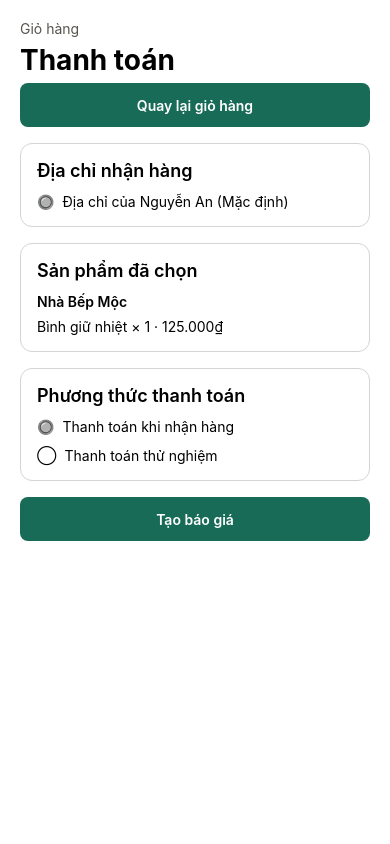
Test: B08 shows per-line server issues and does not infer quote totals
What coordinates should you click on to do the following:
click the button "Tạo báo giá"
I would click on:
 (195, 519)
Its box is [20,497,370,541].
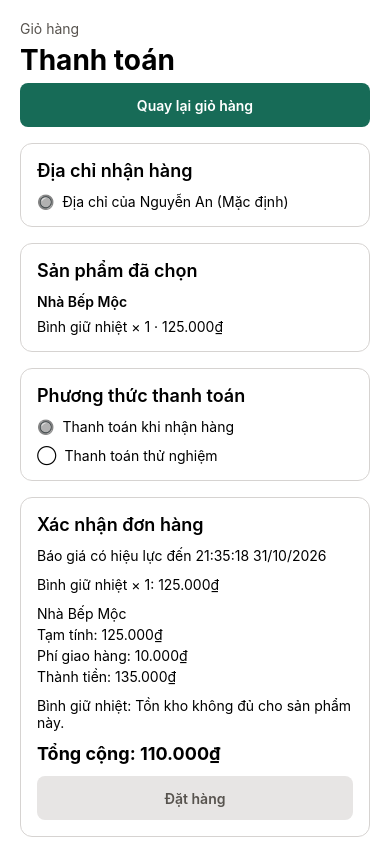
Expected: the text "Bình giữ nhiệt: Tồn kho không đủ cho sản phẩm này." is shown, [37,697,353,731]
Expected: the text "Tổng cộng: 110.000₫" is shown, [37,743,220,764]
Expected: the button labelled "Đặt hàng" is disabled, [37,776,353,820]
